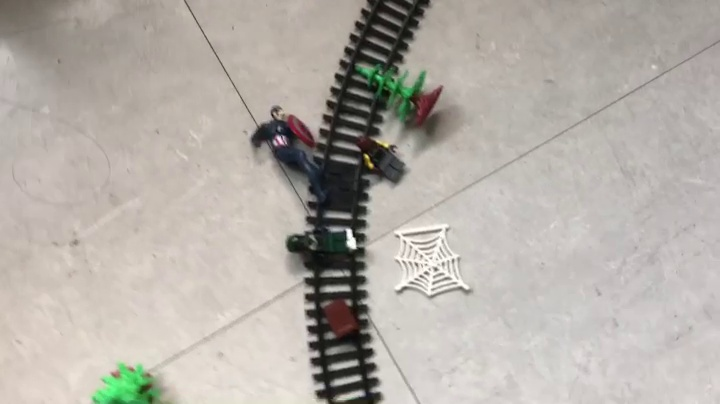box: (319, 297, 357, 337)
people: (248, 103, 337, 205), (353, 133, 408, 184), (284, 225, 358, 261)
tree: (354, 62, 447, 128), (94, 362, 162, 404)
web: (392, 220, 471, 299)
